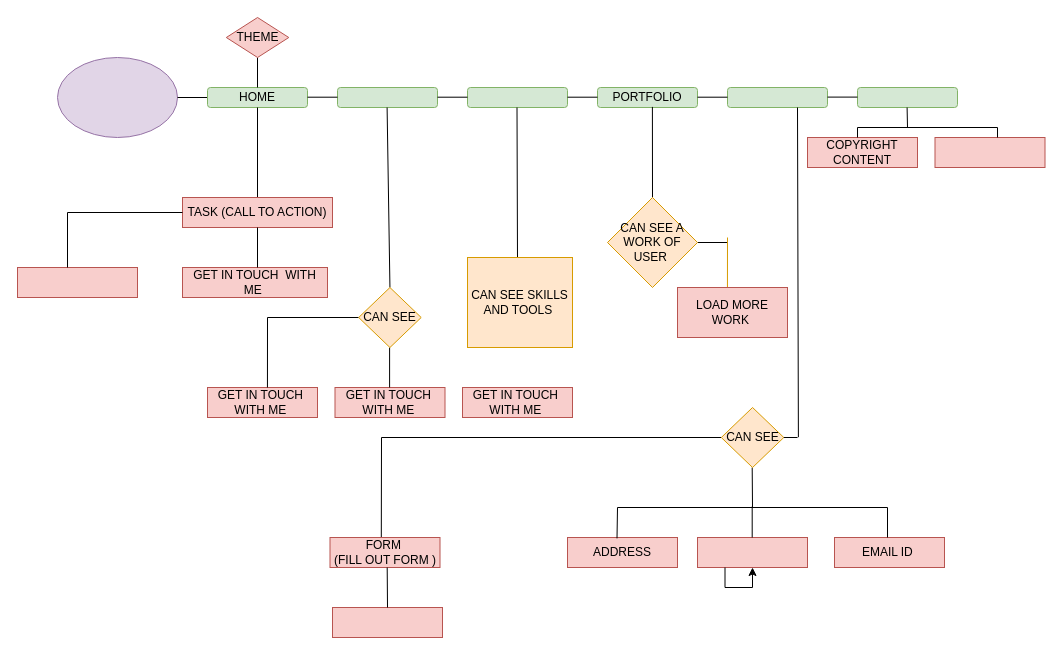
The diagram is 1063 pixels wide and 655 high, and some of its shapes have lost their labels. Each missing label, with the box of its shape:
ABOUT: (336, 86, 438, 108)
CAN SUBMIT FORM: (332, 606, 442, 638)
CONTACT: (726, 86, 828, 108)
FOOTER: (856, 86, 958, 108)
LOGO: (934, 136, 1045, 168)
Ph. Number: (696, 536, 808, 568)
SKILLS: (466, 86, 568, 108)
SOCIAL MEDIA LINKS: (16, 266, 138, 298)
USER LANDS ON WEB: (56, 56, 178, 138)
